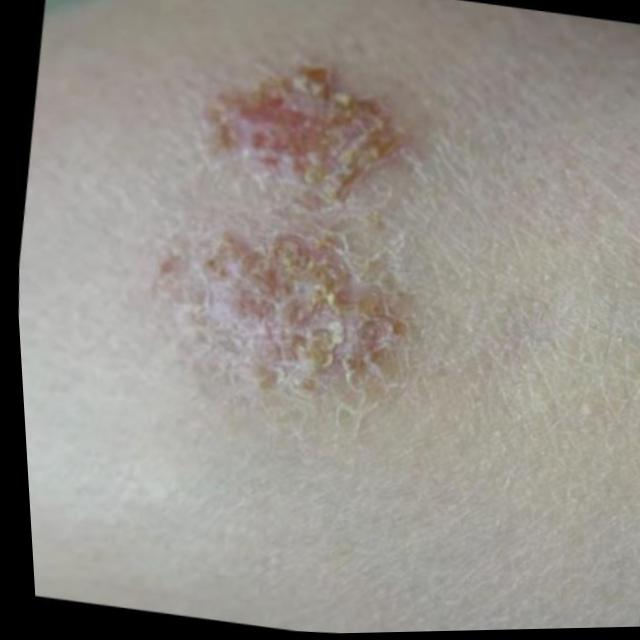Eczema: (141, 39, 417, 386)
